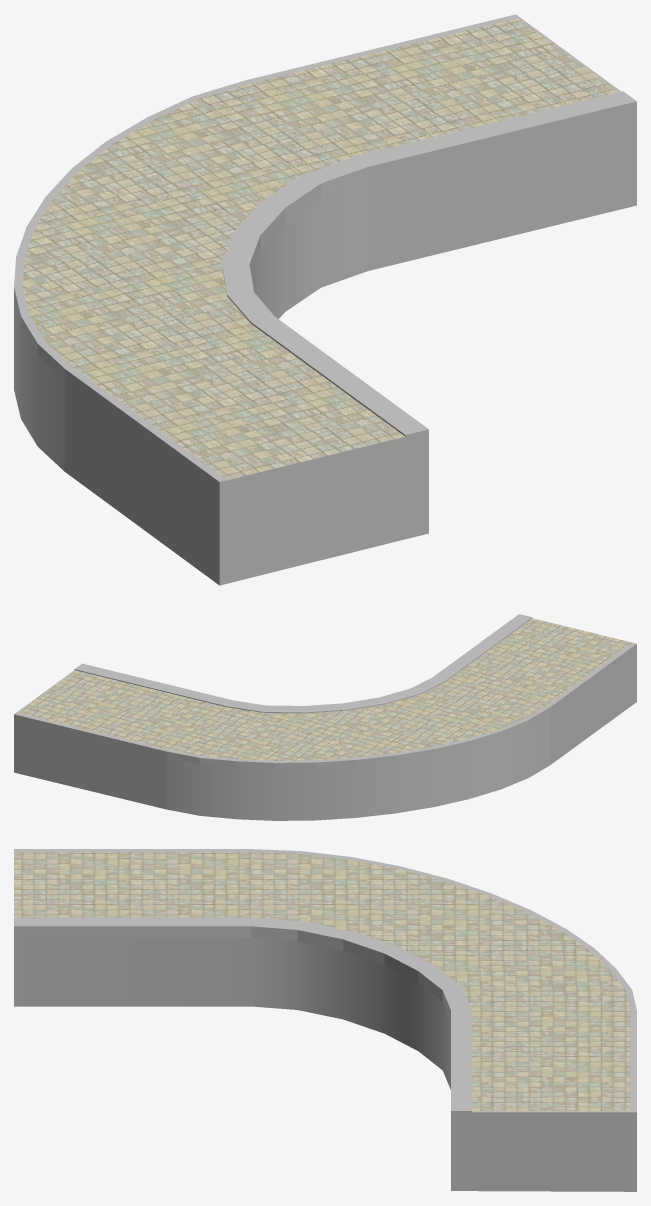
File: road_01w_cv_in_a.fbx
3 renders of one model, top to bottom at view 1: azimuth 30°, elevation 25°; view 2: azimuth 150°, elevation 25°; view 3: azimuth 270°, elevation 25°, orthographic. The views are drawn at different scales.
Visible parts, largest first — view 1: road_01w_cv_in_a; view 2: road_01w_cv_in_a; view 3: road_01w_cv_in_a.
Boxes of the visible parts, <box> form: road_01w_cv_in_a: <box>14,14,636,585</box>; road_01w_cv_in_a: <box>14,614,636,820</box>; road_01w_cv_in_a: <box>14,849,636,1191</box>.
Bounding box in the file's own units: 15.74 × 2.26 × 15.75.
